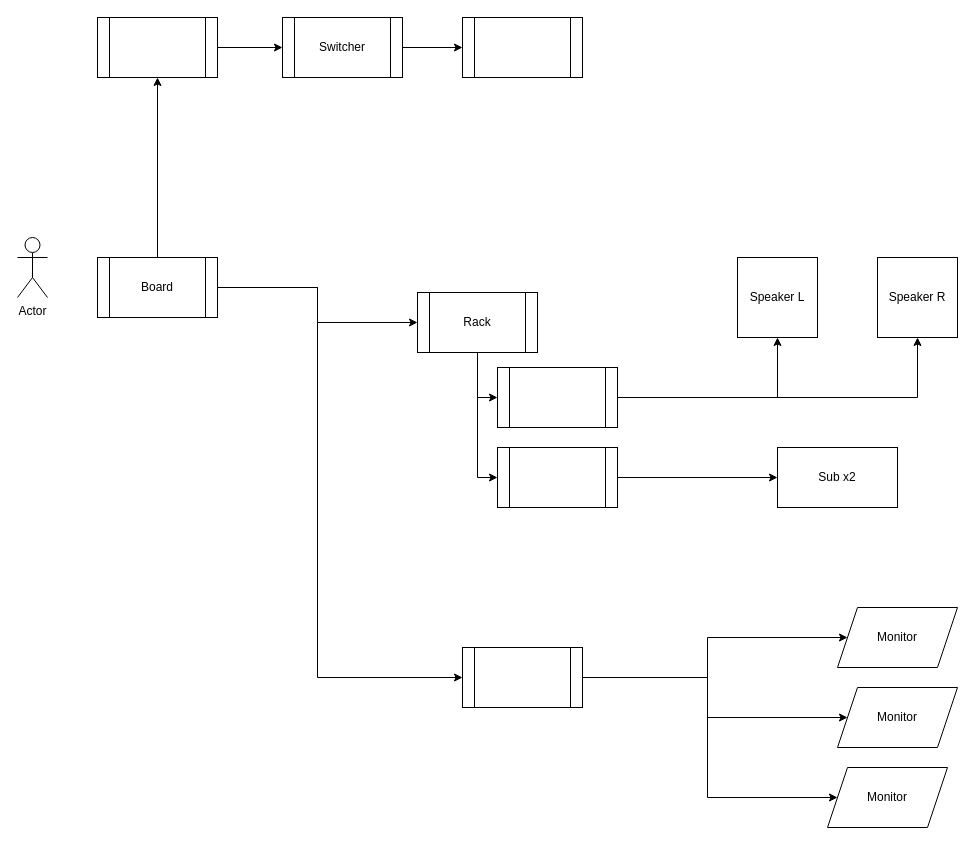
Some shapes in this 975 by 845 pixel diagram are drawn without their labels. The shapes that lost their labels are listed below. From the top down, each one's centre as x and y in pixels, then its label:
pixel 157 47: DI Box
pixel 522 47: Laptop
pixel 557 397: Speakers Amp
pixel 557 477: Subs Amp
pixel 522 677: Snake
